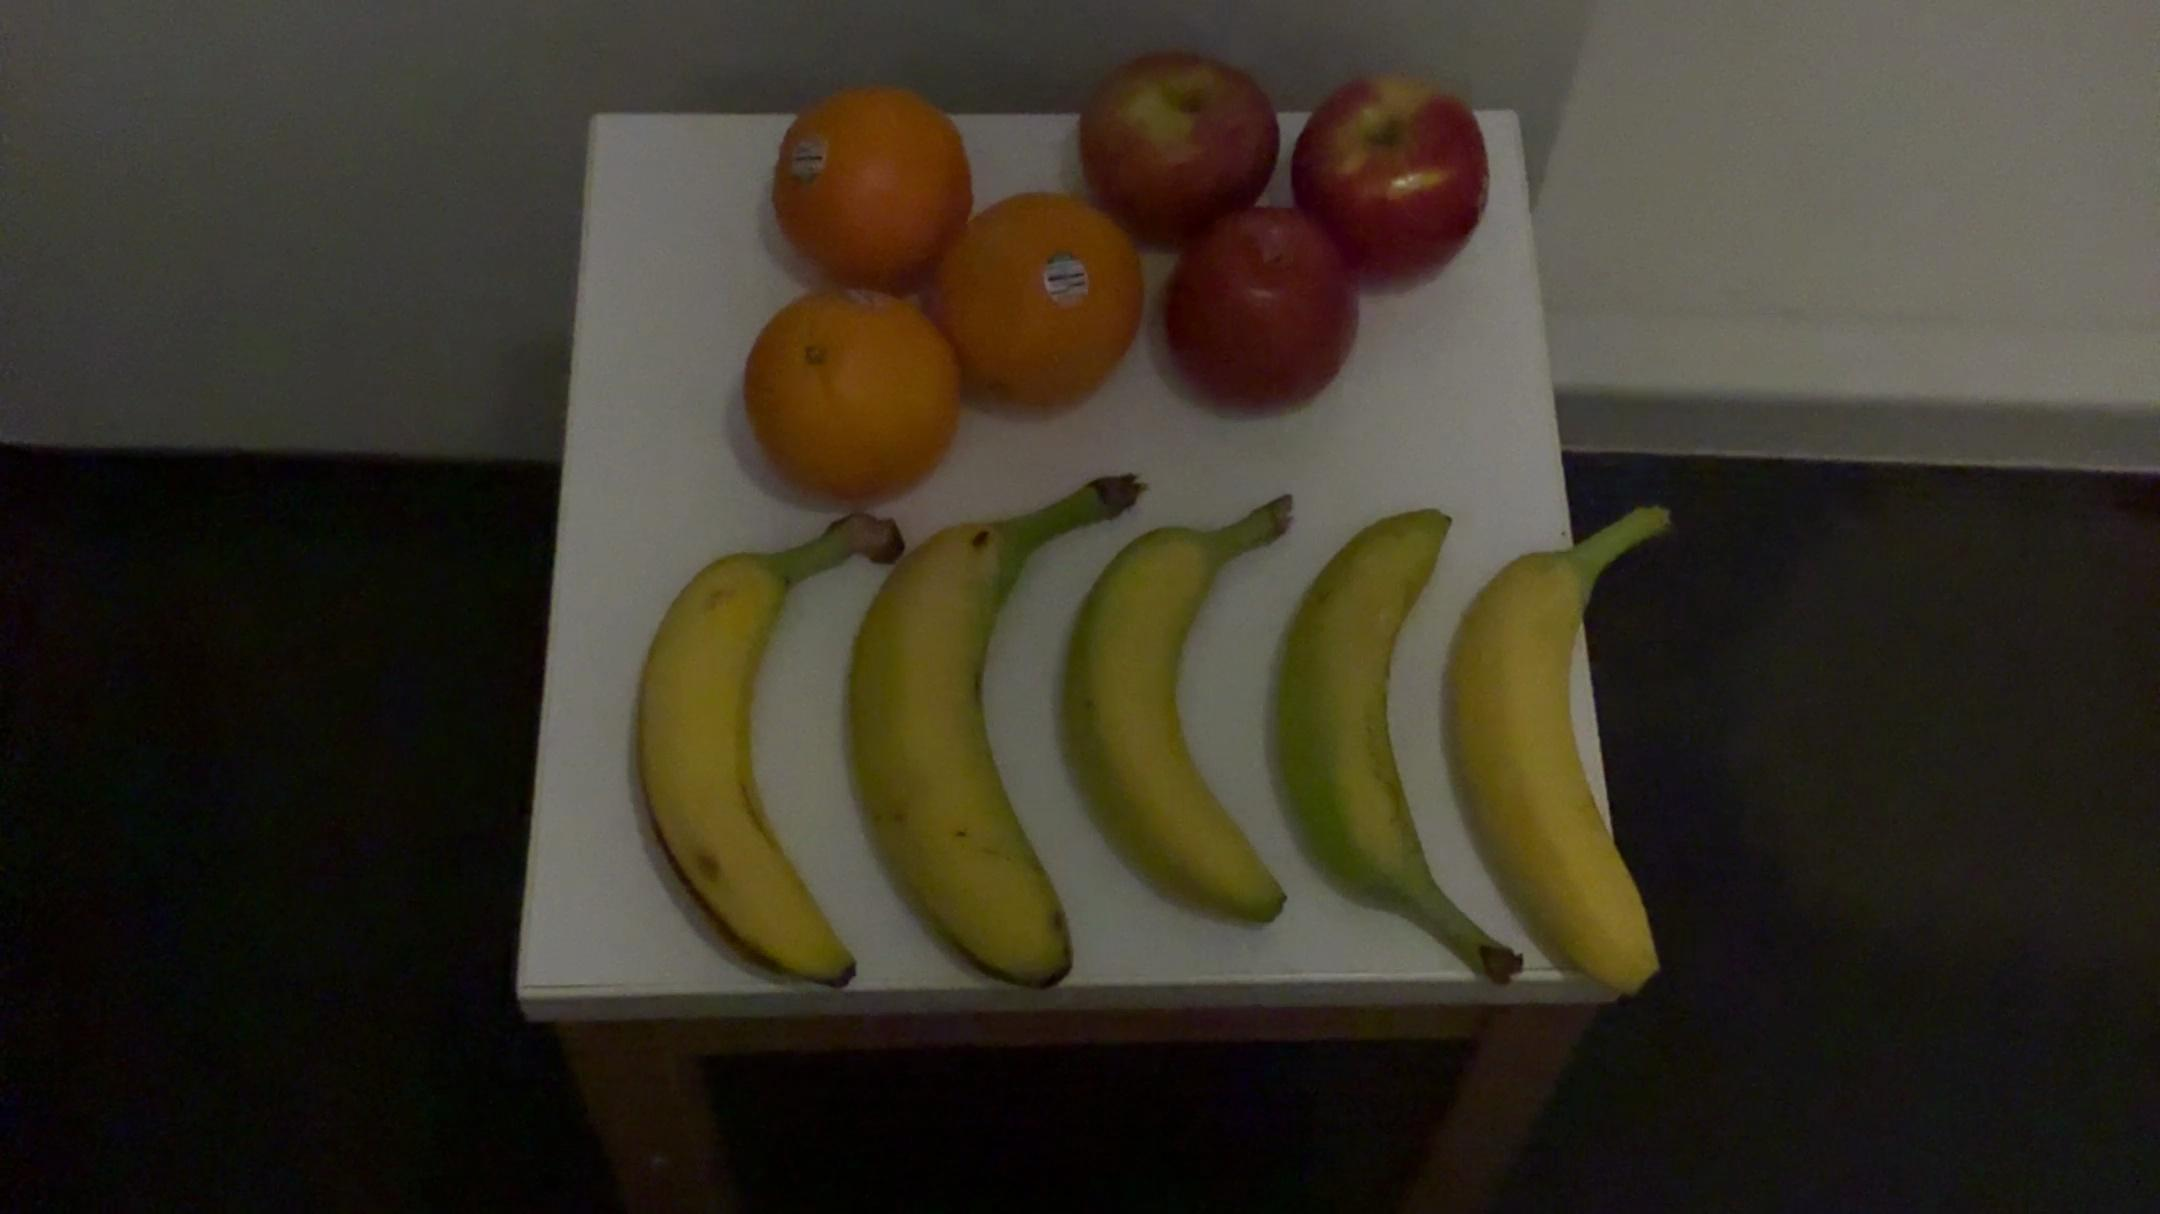apple: (1280, 65, 1498, 295), (1077, 47, 1276, 258), (1157, 220, 1360, 419)
banana: (837, 479, 1145, 997), (1427, 482, 1688, 1008), (629, 509, 895, 999), (1271, 508, 1535, 985), (1055, 497, 1311, 942)
orange: (761, 71, 976, 288), (748, 286, 958, 500), (938, 193, 1144, 410)
